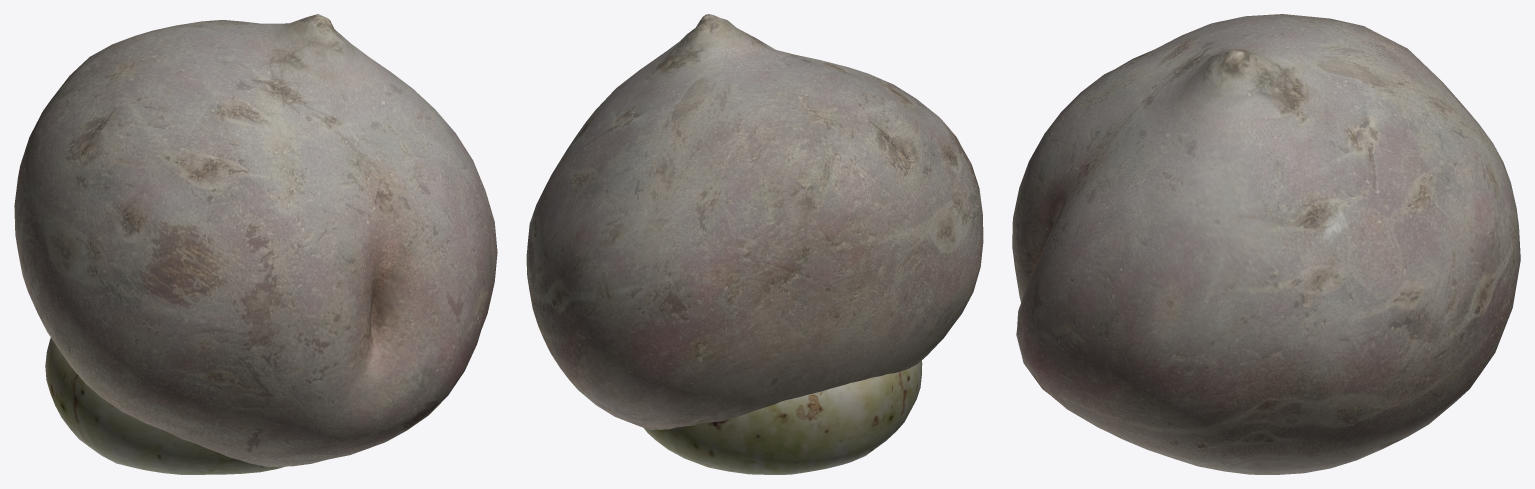
Rendered from kiri_navet.gltf.
3 renders of one model, left to right at view 1: azimuth 30°, elevation 25°; view 2: azimuth 150°, elevation 25°; view 3: azimuth 270°, elevation 25°, orthographic. The views are drawn at different scales.
Visible parts, largest first — view 1: A94_Turnip, A33_Turnip; view 2: A94_Turnip, A33_Turnip; view 3: A94_Turnip.
Boxes of the visible parts, left/top/right/bottom form: A94_Turnip: left=14, top=14, right=497, bottom=467; A33_Turnip: left=45, top=337, right=284, bottom=474; A94_Turnip: left=526, top=14, right=983, bottom=429; A33_Turnip: left=643, top=360, right=922, bottom=474; A94_Turnip: left=1012, top=14, right=1520, bottom=474.
Size of the model in its own units: 0.1274 by 0.124 by 0.1352.
2 materials, 2 textured.
